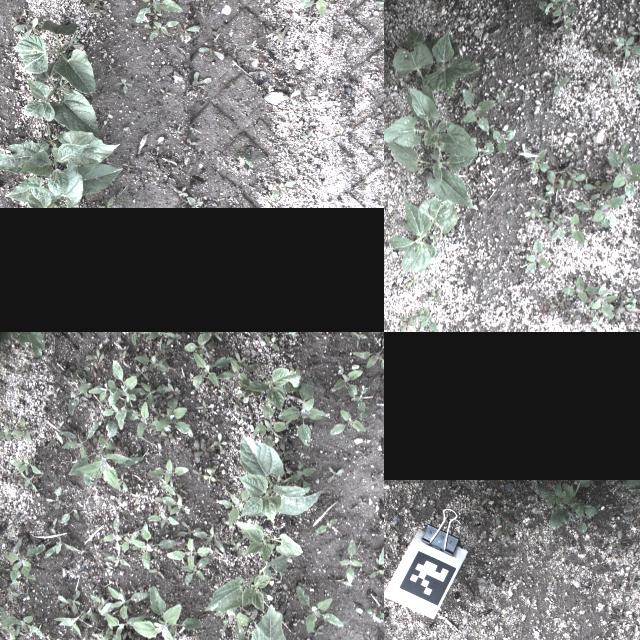crop: (235, 433, 322, 525), (384, 85, 478, 158), (390, 29, 480, 100), (385, 143, 477, 211), (15, 22, 96, 98), (384, 194, 458, 276), (0, 124, 118, 175), (5, 158, 121, 208), (23, 62, 99, 136), (204, 556, 290, 612), (216, 605, 304, 640), (236, 522, 302, 566), (242, 368, 306, 412), (0, 332, 46, 358)
weed: (67, 420, 145, 492), (130, 585, 203, 640), (87, 358, 137, 432), (275, 377, 327, 447), (537, 482, 597, 534), (120, 520, 182, 570), (601, 137, 640, 202), (296, 586, 344, 634), (87, 584, 147, 620), (570, 192, 626, 230), (215, 351, 261, 397), (459, 84, 501, 134), (1, 544, 44, 586), (252, 399, 288, 446), (328, 399, 372, 435), (144, 460, 188, 496), (190, 351, 233, 387), (154, 396, 192, 436), (60, 421, 98, 461), (53, 606, 99, 638), (0, 607, 42, 640), (214, 487, 248, 527), (531, 168, 563, 210), (166, 538, 210, 568), (587, 284, 621, 320), (213, 608, 251, 640), (348, 342, 384, 375), (131, 0, 182, 23), (479, 127, 518, 157), (125, 402, 157, 438), (338, 540, 364, 584), (560, 274, 598, 304), (183, 332, 223, 360), (524, 237, 552, 276), (42, 531, 80, 559), (136, 343, 174, 371), (279, 458, 315, 487), (66, 376, 92, 416), (333, 364, 363, 398), (180, 556, 212, 586), (104, 614, 144, 638), (126, 382, 166, 406), (152, 494, 190, 518), (557, 214, 585, 246), (193, 526, 225, 554), (521, 147, 551, 176), (118, 332, 179, 346), (609, 34, 640, 60), (297, 0, 344, 17), (7, 454, 43, 476), (492, 508, 516, 540), (41, 428, 78, 448), (536, 0, 577, 17), (582, 178, 612, 200), (416, 306, 440, 332), (56, 588, 80, 614), (102, 518, 121, 550), (540, 207, 562, 231), (146, 511, 178, 527), (149, 22, 177, 40), (84, 347, 105, 371), (0, 422, 26, 441), (192, 441, 214, 463), (8, 18, 38, 34), (90, 625, 121, 640), (192, 72, 212, 95), (375, 514, 384, 565), (564, 172, 586, 192), (272, 182, 296, 200), (192, 465, 216, 483), (312, 518, 338, 534), (176, 521, 202, 537), (424, 288, 444, 308), (555, 16, 575, 36), (70, 362, 90, 382), (18, 471, 38, 491), (44, 486, 61, 509), (228, 152, 252, 168), (81, 0, 111, 12), (606, 531, 624, 551), (19, 418, 35, 440), (397, 313, 415, 332), (469, 491, 486, 511), (553, 75, 569, 95), (348, 332, 368, 348), (194, 398, 214, 414), (60, 508, 80, 524), (627, 17, 640, 41), (197, 49, 225, 60), (212, 432, 226, 454), (283, 89, 301, 105), (278, 442, 294, 460), (263, 334, 279, 352), (164, 382, 180, 400), (102, 556, 130, 566), (177, 24, 200, 36), (522, 207, 542, 220), (600, 44, 616, 60), (327, 467, 343, 483), (147, 563, 163, 579), (113, 75, 127, 93), (560, 315, 580, 327), (366, 607, 380, 623), (202, 416, 216, 432), (134, 364, 148, 380), (80, 392, 94, 408), (186, 196, 204, 208), (230, 538, 243, 554), (367, 567, 384, 578), (183, 138, 197, 150), (622, 298, 636, 310), (370, 332, 384, 344), (119, 162, 135, 172), (160, 88, 172, 100), (98, 198, 112, 208), (373, 0, 384, 11), (313, 625, 323, 637), (51, 518, 57, 536), (147, 25, 157, 35), (177, 186, 187, 196), (245, 44, 257, 50), (298, 134, 308, 140), (64, 637, 79, 640), (172, 130, 182, 134), (338, 128, 344, 132)
